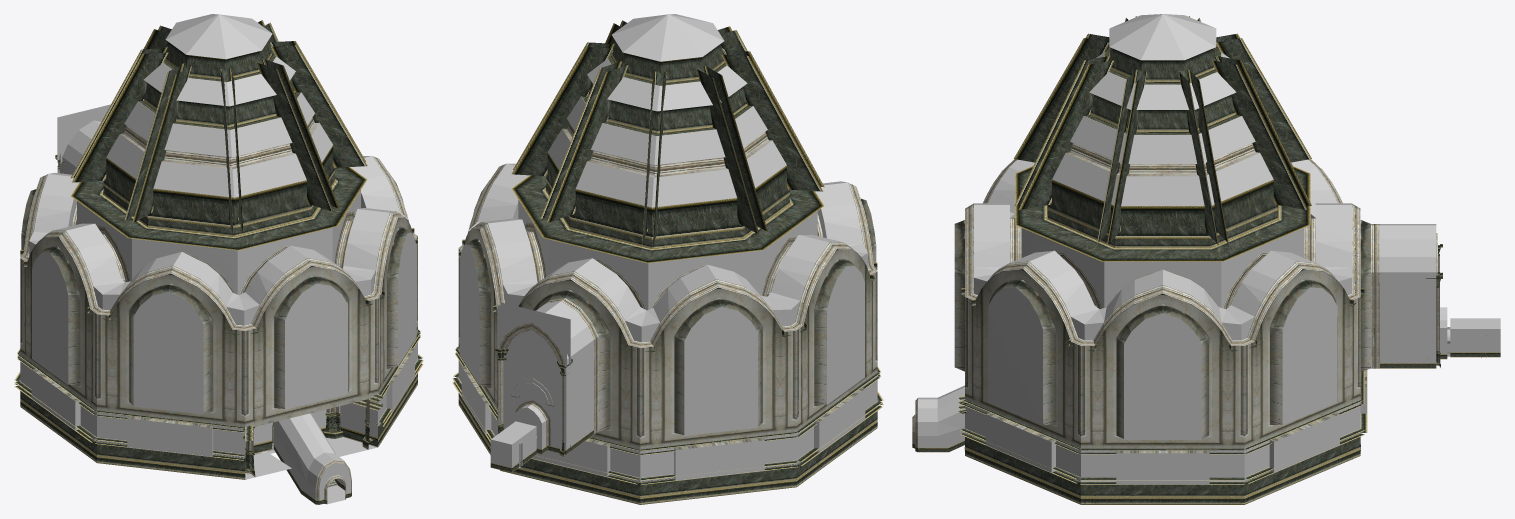
Rendered from estructuraAux2.2.gltf.
3 renders of one model, left to right at view 1: azimuth 30°, elevation 25°; view 2: azimuth 150°, elevation 25°; view 3: azimuth 270°, elevation 25°, orthographic. The views are drawn at different scales.
Parts seen in each view (by area): view 1: n9b1_n9b1.002, n3b6_n3b6.002, n5b20_n5b20.002, n7b18_n7b18.002, n23b19_n23b19.002, n6b9_n6b9.002, n11b5_n11b5.002, n4b3_n4b3.002; view 2: n9b1_n9b1.002, n3b6_n3b6.002, n5b20_n5b20.002, n7b18_n7b18.002, n23b19_n23b19.002, n6b9_n6b9.002; view 3: n9b1_n9b1.002, n3b6_n3b6.002, n5b20_n5b20.002, n7b18_n7b18.002, n23b19_n23b19.002, n6b9_n6b9.002.
Part boxes in pixels (x1=…): n9b1_n9b1.002: x1=14, y1=20, x2=423, y2=504; n3b6_n3b6.002: x1=20, y1=46, x2=417, y2=504; n5b20_n5b20.002: x1=20, y1=172, x2=417, y2=429; n7b18_n7b18.002: x1=32, y1=232, x2=416, y2=414; n23b19_n23b19.002: x1=106, y1=14, x2=332, y2=197; n6b9_n6b9.002: x1=20, y1=117, x2=417, y2=500; n11b5_n11b5.002: x1=245, y1=437, x2=377, y2=479; n4b3_n4b3.002: x1=340, y1=401, x2=377, y2=437; n9b1_n9b1.002: x1=452, y1=20, x2=883, y2=504; n3b6_n3b6.002: x1=458, y1=48, x2=877, y2=481; n5b20_n5b20.002: x1=458, y1=180, x2=877, y2=451; n7b18_n7b18.002: x1=459, y1=244, x2=864, y2=435; n23b19_n23b19.002: x1=548, y1=14, x2=786, y2=207; n6b9_n6b9.002: x1=459, y1=123, x2=877, y2=446; n9b1_n9b1.002: x1=912, y1=16, x2=1500, y2=504; n3b6_n3b6.002: x1=918, y1=52, x2=1500, y2=484; n5b20_n5b20.002: x1=954, y1=220, x2=1370, y2=453; n7b18_n7b18.002: x1=988, y1=287, x2=1337, y2=439; n23b19_n23b19.002: x1=1052, y1=14, x2=1273, y2=205; n6b9_n6b9.002: x1=912, y1=143, x2=1439, y2=447.
Bounding box in the file's own units: 7.43 × 8.45 × 10.5.
